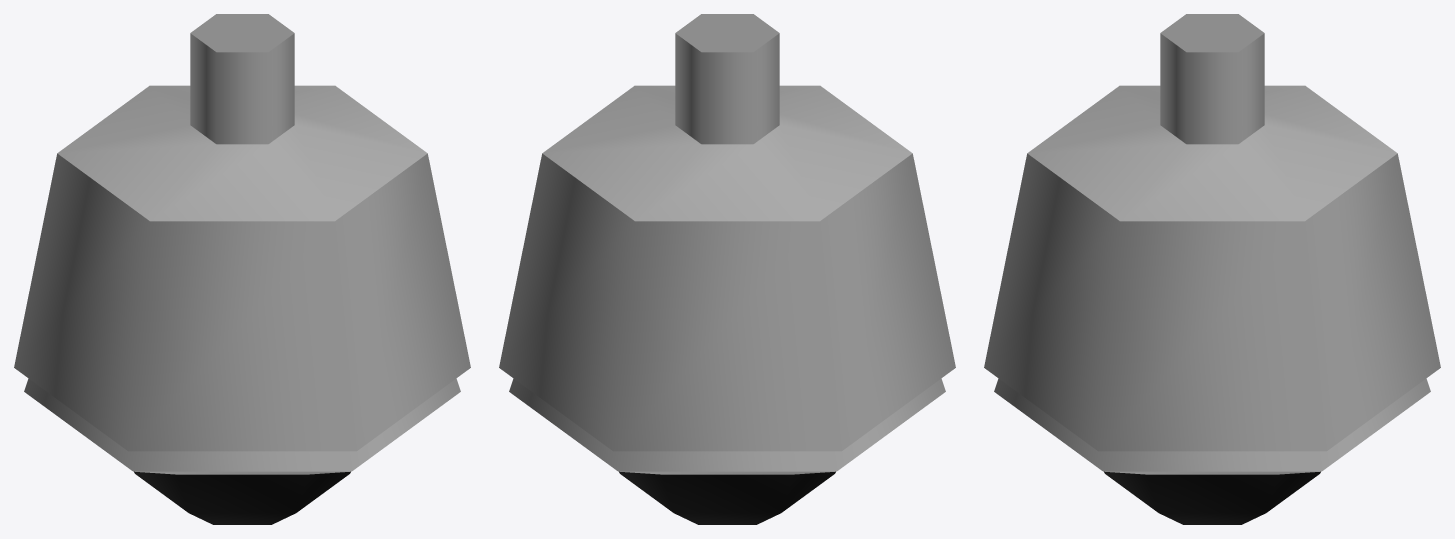
File: SW_PROP_SecurityCamera_01.fbx
3 views of the same model, side by side, from view 1: azimuth 30°, elevation 25°; view 2: azimuth 150°, elevation 25°; view 3: azimuth 270°, elevation 25° (orthographic).
Visible parts, largest first — view 1: SW_PROP_SecurityCamera_01; view 2: SW_PROP_SecurityCamera_01; view 3: SW_PROP_SecurityCamera_01.
Part boxes in pixels (x1,y1,x2,y2): SW_PROP_SecurityCamera_01: (14,14,470,524); SW_PROP_SecurityCamera_01: (499,14,955,524); SW_PROP_SecurityCamera_01: (984,14,1440,524).
Bounding box in the file's own units: 0.3896 × 0.5225 × 0.4498.
